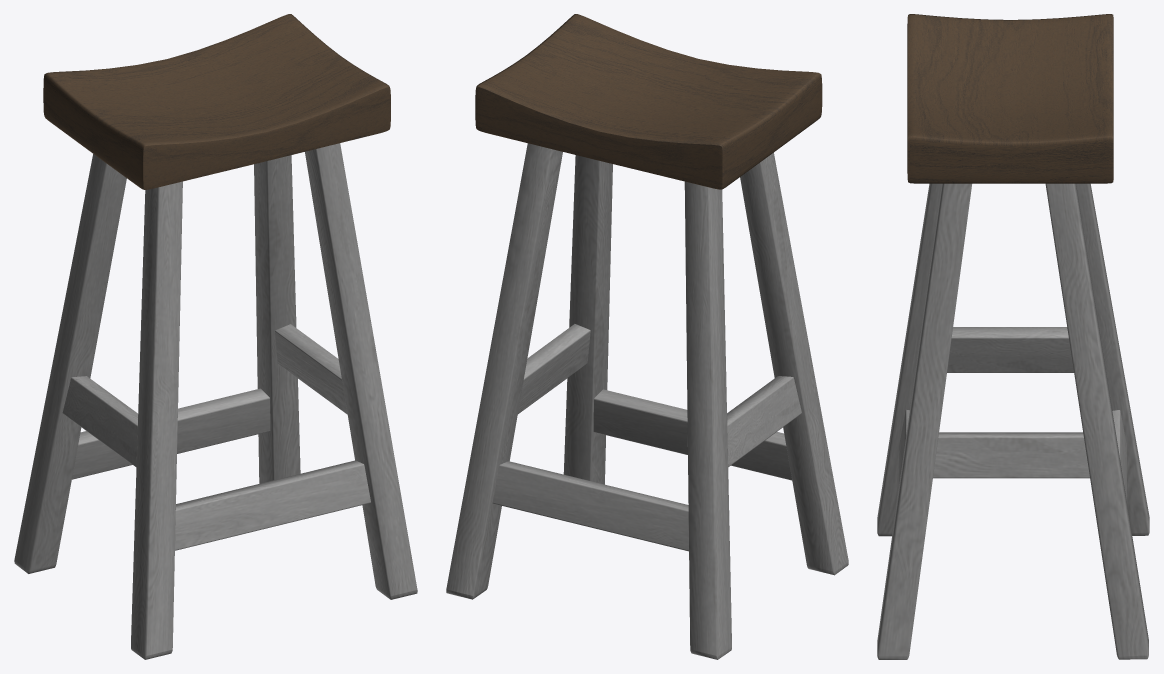
File: barsaddle_stool_white.gltf
3 renders of one model, left to right at view 1: azimuth 30°, elevation 25°; view 2: azimuth 150°, elevation 25°; view 3: azimuth 270°, elevation 25°, orthographic. The views are drawn at different scales.
Parts seen in each view (by area): view 1: main; view 2: main; view 3: main.
Boxes of the visible parts, <box> form: main: <box>14,14,417,659</box>; main: <box>446,14,848,659</box>; main: <box>877,14,1149,659</box>.
Size of the model in its own units: 0.4342 by 0.7611 by 0.3642.
1 material, 1 textured.
